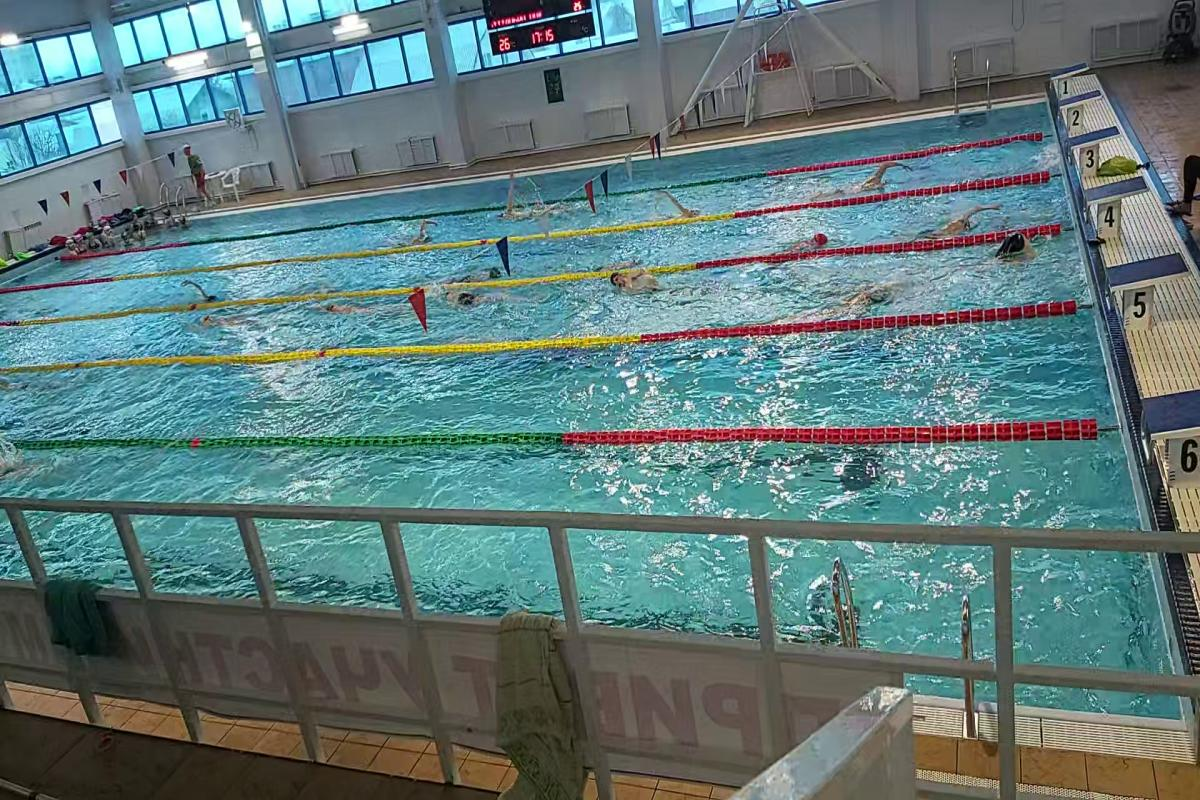swimmer: (599, 263, 687, 306), (321, 296, 412, 320), (441, 290, 545, 310), (840, 164, 916, 191), (992, 232, 1044, 269), (497, 188, 546, 225), (938, 203, 995, 234), (783, 230, 843, 258), (660, 188, 706, 220), (396, 217, 446, 246), (176, 276, 230, 302), (193, 307, 263, 327), (448, 264, 510, 280)
